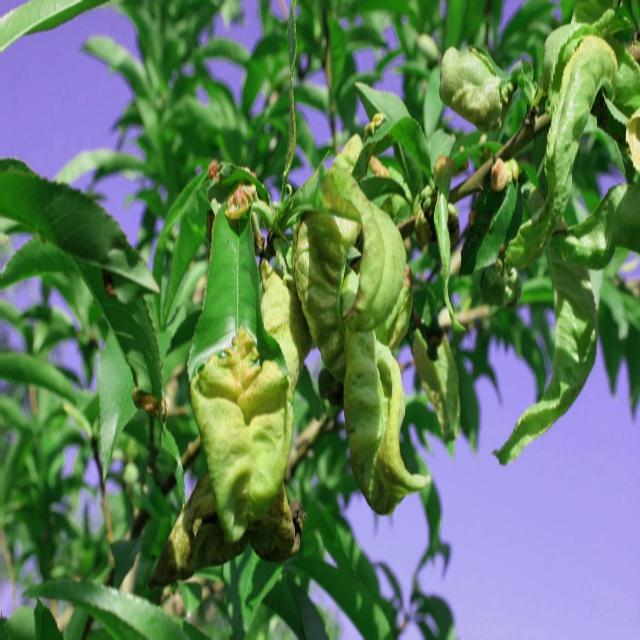leaf_curl: (161, 187, 306, 569)
